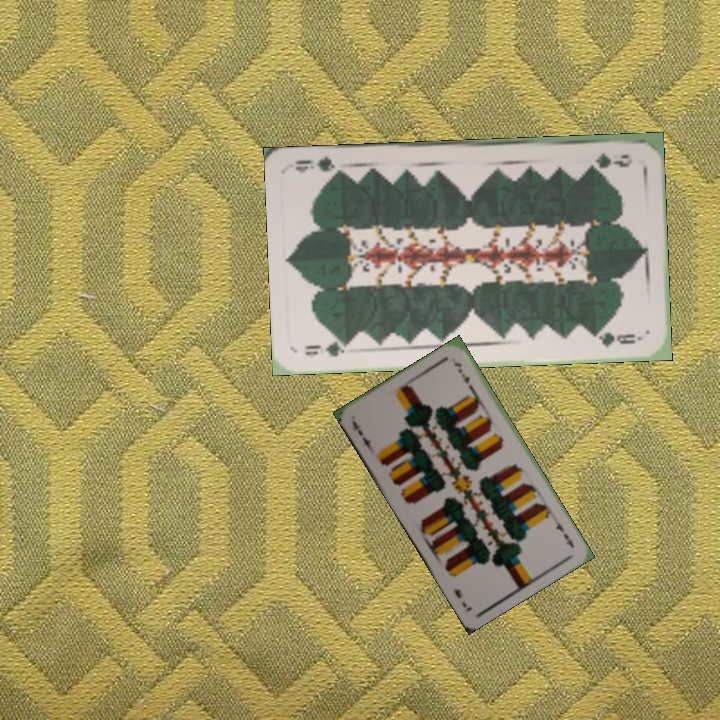E7: (348, 417, 376, 454), (549, 514, 577, 550)
G9: (300, 337, 355, 359), (592, 149, 635, 168)
